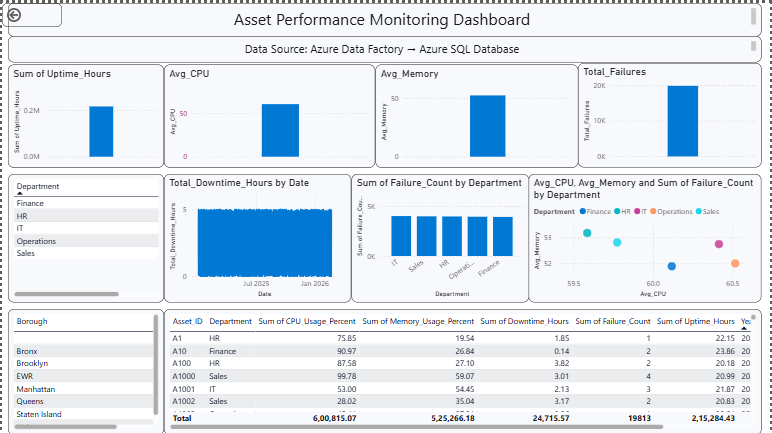

The page's visual inventory and layout, read from the dashboard file:
{"tool":"powerbi","page":{"name":"Page 1","canvas":[1280,720],"ordinal":0},"visuals":[{"type":"textbox","box":[10,0,1256,56],"z":0},{"type":"textbox","box":[10,56,1256,44],"z":1000},{"type":"clusteredColumnChart","fields":{"Y":["Sum(AssetPerformanceData.Uptime_Hours)"]},"box":[10,102,260,172],"z":2000},{"type":"clusteredColumnChart","fields":{"Y":["AssetPerformanceData.Avg_CPU"]},"box":[270,102,352,172],"z":3000},{"type":"clusteredColumnChart","fields":{"Y":["AssetPerformanceData.Avg_Memory"]},"box":[622,102,338,172],"z":4000},{"type":"clusteredColumnChart","fields":{"Y":["AssetPerformanceData.Total_Failures"]},"box":[960,100,306,174],"z":5000},{"type":"tableEx","fields":{"Values":["AssetPerformanceData.Department"]},"box":[10,286,260,214],"z":6000},{"type":"lineChart","fields":{"Y":["AssetPerformanceData.Total_Downtime_Hours","select"],"Category":["AssetPerformanceData.Date"]},"box":[270,286,312,214],"z":7000},{"type":"scatterChart","fields":{"X":["AssetPerformanceData.Avg_CPU"],"Y":["AssetPerformanceData.Avg_Memory"],"Size":["Sum(AssetPerformanceData.Failure_Count)"],"Series":["AssetPerformanceData.Department"]},"box":[878,286,388,214],"z":8000},{"type":"tableEx","fields":{"Values":["AssetPerformanceData.Borough"]},"box":[10,510,260,210],"z":9000},{"type":"columnChart","fields":{"Category":["AssetPerformanceData.Department"],"Y":["Sum(AssetPerformanceData.Failure_Count)"]},"box":[582,286,296,214],"z":10000},{"type":"actionButton","box":[0,0,100,40],"z":10002},{"type":"tableEx","fields":{"Values":["AssetPerformanceData.Asset_ID","AssetPerformanceData.Department","Sum(AssetPerformanceData.CPU_Usage_Percent)","Sum(AssetPerformanceData.Memory_Usage_Percent)","Sum(AssetPerformanceData.Downtime_Hours)","Sum(AssetPerformanceData.Failure_Count)","Sum(AssetPerformanceData.Uptime_Hours)","AssetPerformanceData.Date.Variation.Date Hierarchy.Year","AssetPerformanceData.Date.Variation.Date Hierarchy.Quarter","AssetPerformanceData.Date.Variation.Date Hierarchy.Month","AssetPerformanceData.Date.Variation.Date Hierarchy.Day"]},"box":[270,510,996,210],"z":10003}]}

Visuals, with their boxes in screenshot pixels (x1, y1, x2, y2), scaled from the page's 1280x720 canvas onto the 772x433 screenshot:
textbox: bbox=(6, 0, 764, 34)
textbox: bbox=(6, 34, 764, 60)
clusteredColumnChart - Sum(AssetPerformanceData.Uptime_Hours): bbox=(6, 61, 163, 165)
clusteredColumnChart - AssetPerformanceData.Avg_CPU: bbox=(163, 61, 375, 165)
clusteredColumnChart - AssetPerformanceData.Avg_Memory: bbox=(375, 61, 579, 165)
clusteredColumnChart - AssetPerformanceData.Total_Failures: bbox=(579, 60, 764, 165)
tableEx - AssetPerformanceData.Department: bbox=(6, 172, 163, 301)
lineChart - AssetPerformanceData.Total_Downtime_Hours x select: bbox=(163, 172, 351, 301)
scatterChart - AssetPerformanceData.Avg_CPU x AssetPerformanceData.Avg_Memory: bbox=(530, 172, 764, 301)
tableEx - AssetPerformanceData.Borough: bbox=(6, 307, 163, 432)
columnChart - AssetPerformanceData.Department x Sum(AssetPerformanceData.Failure_Count): bbox=(351, 172, 530, 301)
actionButton: bbox=(0, 0, 60, 24)
tableEx - AssetPerformanceData.Asset_ID x AssetPerformanceData.Department: bbox=(163, 307, 764, 432)
